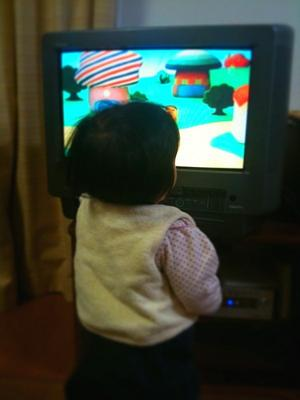person: (64, 102, 225, 398)
